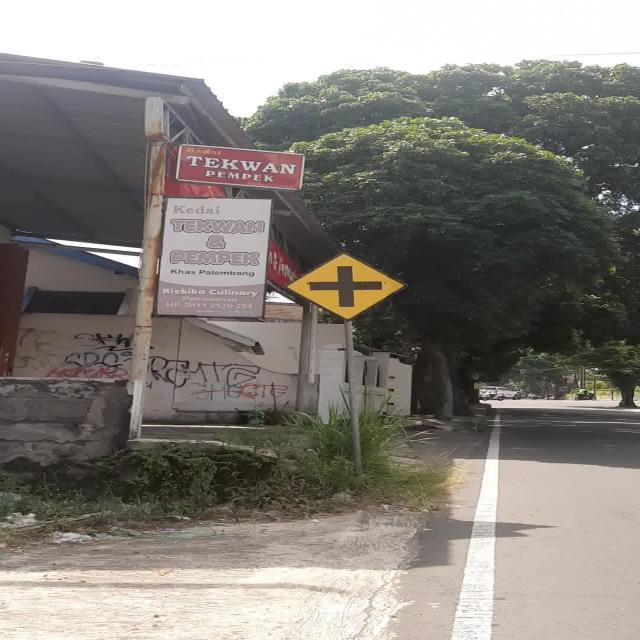Persimpangan 4: (284, 251, 408, 321)
